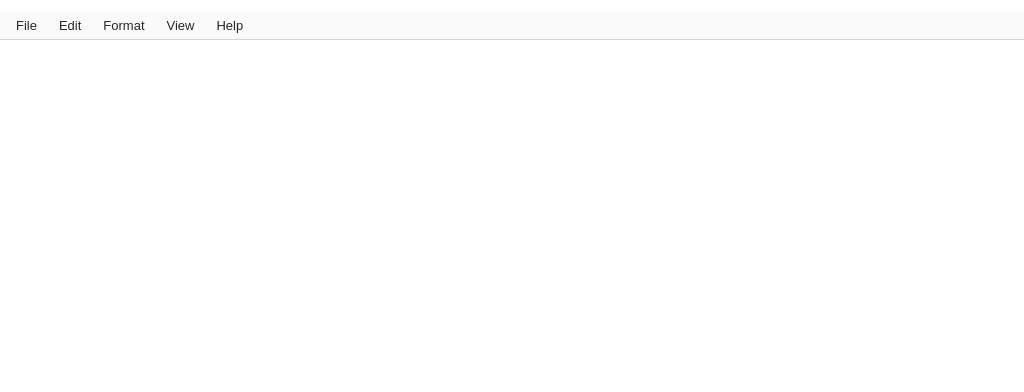
Scenario: MenuBar labels (regression: renames must land in BOTH languages) › English: File menu shows Export, never Save As / Export
Click the button "File" at (26, 26), box [6, 14, 47, 37]
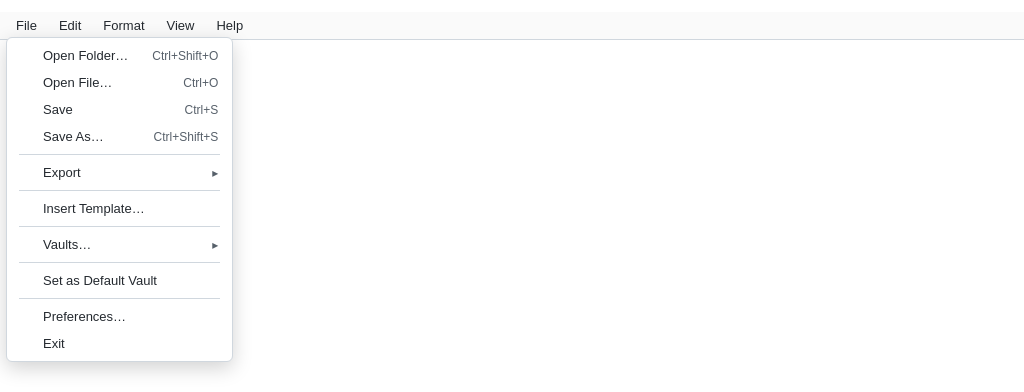
Result: the text "Export" is shown at [43, 165, 81, 180]
